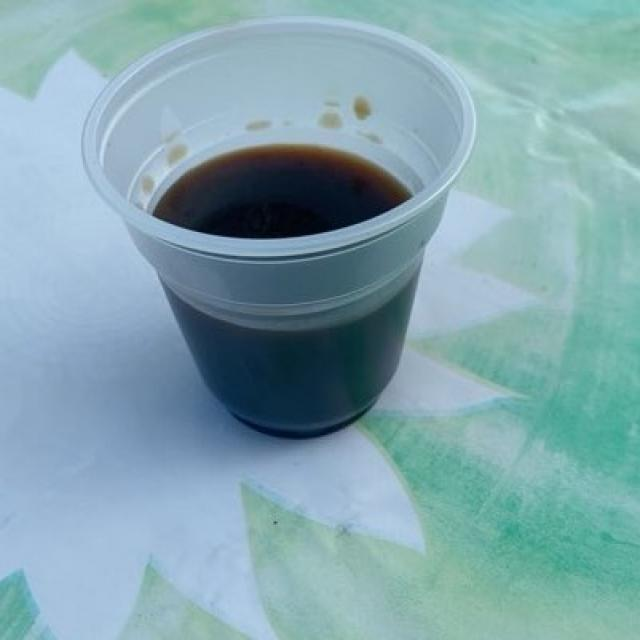coffee: (164, 151, 406, 234)
